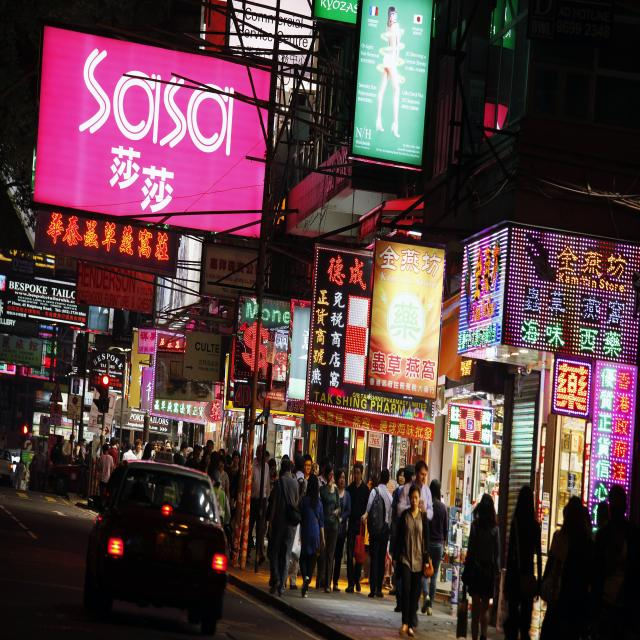body: (540, 495, 593, 639), (593, 485, 640, 639), (394, 482, 435, 640), (502, 483, 542, 640), (367, 0, 409, 149), (461, 492, 502, 640), (267, 457, 300, 599), (419, 475, 449, 616), (365, 465, 394, 600), (298, 473, 326, 599), (344, 460, 370, 594), (318, 462, 342, 593), (246, 442, 270, 568), (332, 466, 352, 592), (396, 459, 434, 522), (212, 471, 232, 530), (97, 444, 114, 504), (302, 453, 319, 512), (184, 440, 217, 466), (292, 454, 308, 504), (226, 450, 241, 502), (316, 456, 334, 499), (398, 464, 417, 504), (30, 444, 46, 486), (96, 434, 106, 496), (218, 455, 230, 502), (152, 438, 175, 462), (392, 466, 406, 498), (50, 432, 61, 472), (172, 441, 188, 467), (310, 461, 320, 502), (268, 457, 278, 496), (120, 437, 135, 463), (63, 434, 75, 465), (107, 437, 118, 469), (88, 437, 95, 483), (14, 459, 24, 490), (122, 442, 137, 462), (279, 450, 301, 462), (132, 439, 144, 460), (141, 442, 153, 462), (74, 438, 83, 461), (80, 438, 87, 461), (116, 438, 124, 450), (217, 445, 226, 455), (265, 450, 271, 462), (130, 442, 137, 450)
